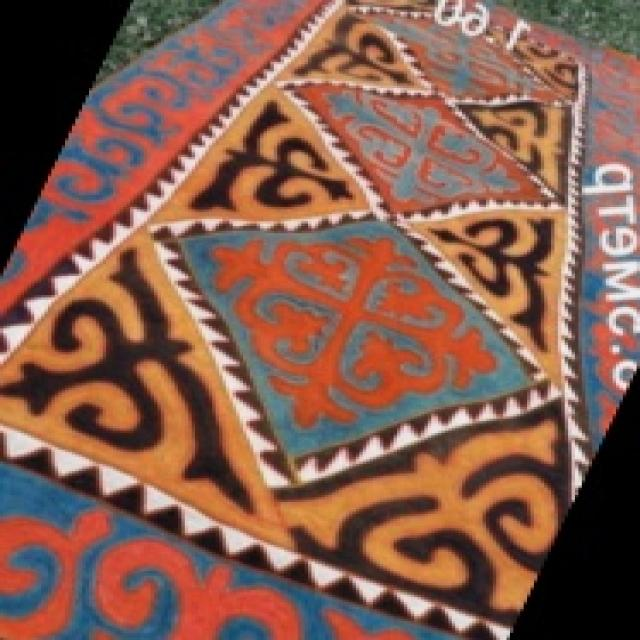Unity: (204, 227, 524, 441), (311, 92, 543, 207)
